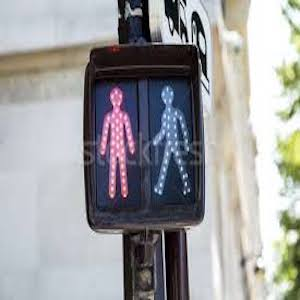red: (99, 86, 138, 193)
